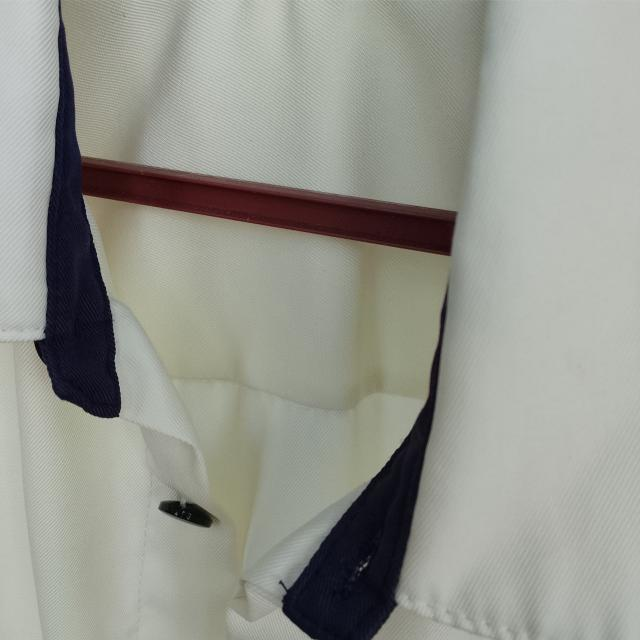education_male_uniform: (7, 85, 531, 600)
